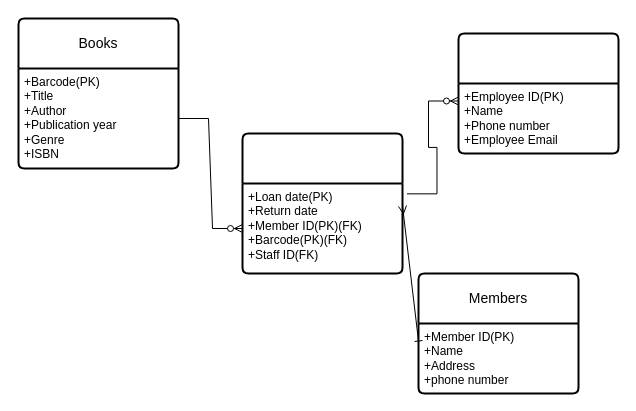
Image size: 636x411. Some labels were removed from this diagram. The box of each missing label's shape, as (x1, y1, x2, y2) in pixels:
Librarians: (457, 32, 619, 154)
Loans: (241, 132, 403, 274)
